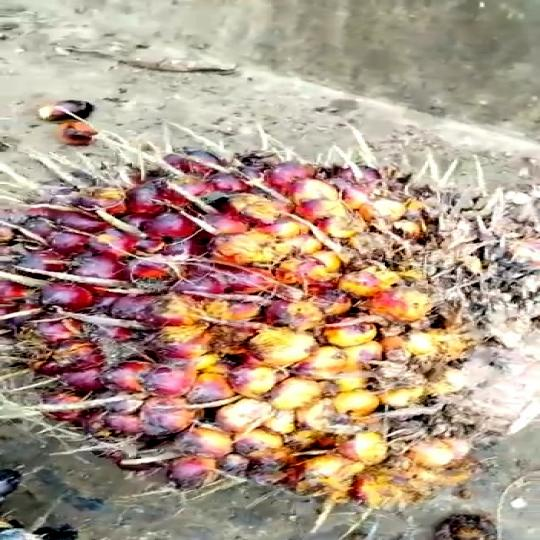masak: (0, 140, 540, 506)
